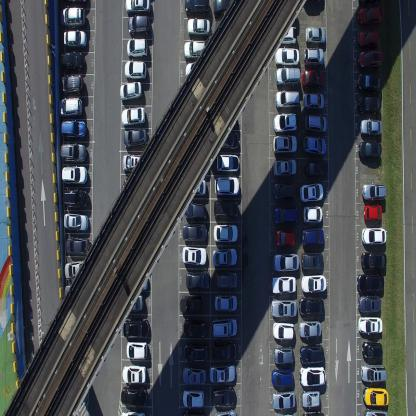car: (299, 364, 326, 388), (60, 141, 87, 164), (210, 316, 238, 338), (120, 385, 148, 407), (356, 71, 383, 93), (358, 5, 385, 27), (60, 6, 86, 28), (58, 74, 84, 96), (62, 187, 89, 208), (357, 272, 384, 293), (357, 50, 384, 71), (121, 105, 145, 128), (213, 222, 238, 244), (179, 293, 204, 315), (273, 111, 298, 133), (181, 245, 207, 266), (213, 198, 239, 219), (214, 176, 240, 197), (57, 97, 83, 118), (60, 119, 86, 140), (360, 362, 386, 383), (298, 182, 324, 203), (209, 362, 236, 382), (61, 164, 88, 184), (362, 386, 389, 406), (119, 80, 142, 103), (182, 364, 206, 386), (358, 140, 382, 162), (302, 134, 326, 156), (273, 156, 297, 178), (211, 341, 236, 362), (182, 317, 207, 338), (272, 24, 297, 45), (123, 318, 149, 338), (59, 51, 85, 71), (299, 344, 325, 364), (271, 298, 297, 318), (298, 296, 324, 316), (361, 250, 387, 270), (302, 160, 328, 180), (274, 90, 300, 110), (273, 206, 299, 226), (212, 385, 235, 407), (183, 38, 206, 60), (301, 68, 324, 90), (304, 112, 327, 134), (184, 61, 208, 82), (63, 29, 87, 50), (357, 94, 381, 115), (275, 46, 299, 67), (273, 182, 297, 203), (182, 177, 207, 197), (185, 270, 210, 290), (183, 343, 208, 363), (123, 128, 148, 148), (63, 212, 88, 232), (358, 314, 383, 334), (275, 67, 300, 87), (272, 134, 297, 154), (122, 153, 148, 172), (300, 274, 326, 293), (270, 275, 296, 294), (273, 253, 299, 272), (126, 37, 148, 59), (216, 130, 239, 151), (301, 227, 324, 248), (122, 364, 146, 384), (272, 390, 296, 410), (212, 248, 237, 267), (182, 223, 207, 242), (64, 260, 90, 278), (357, 29, 379, 50), (303, 46, 325, 67), (215, 270, 238, 290), (182, 388, 205, 408), (124, 60, 147, 80), (127, 15, 150, 35), (187, 16, 210, 36), (358, 294, 381, 314), (302, 91, 325, 111), (124, 272, 148, 291), (362, 226, 386, 245), (362, 183, 386, 202), (119, 294, 144, 312), (65, 236, 90, 254), (63, 284, 88, 302), (126, 340, 148, 360), (360, 118, 382, 138), (216, 153, 239, 172), (214, 294, 237, 313), (271, 368, 294, 387), (272, 321, 295, 340), (301, 251, 324, 270), (182, 202, 206, 220), (122, 176, 146, 194), (298, 320, 322, 338), (305, 25, 326, 45), (213, 0, 237, 17), (362, 340, 382, 360), (273, 346, 294, 364), (274, 229, 295, 247), (302, 205, 323, 223), (184, 0, 209, 15), (125, 0, 151, 14), (301, 389, 320, 408), (364, 203, 382, 223), (120, 408, 146, 416), (182, 408, 206, 416), (364, 407, 388, 415), (214, 408, 236, 416), (302, 410, 324, 416)
